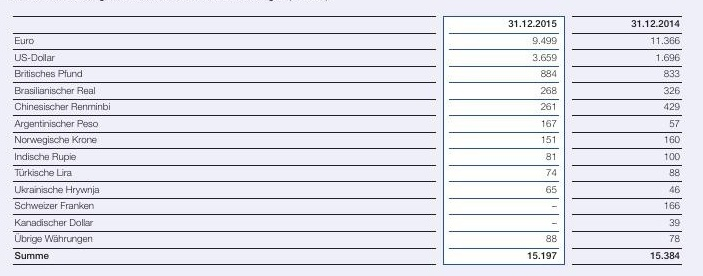table: (0, 0, 703, 276)
